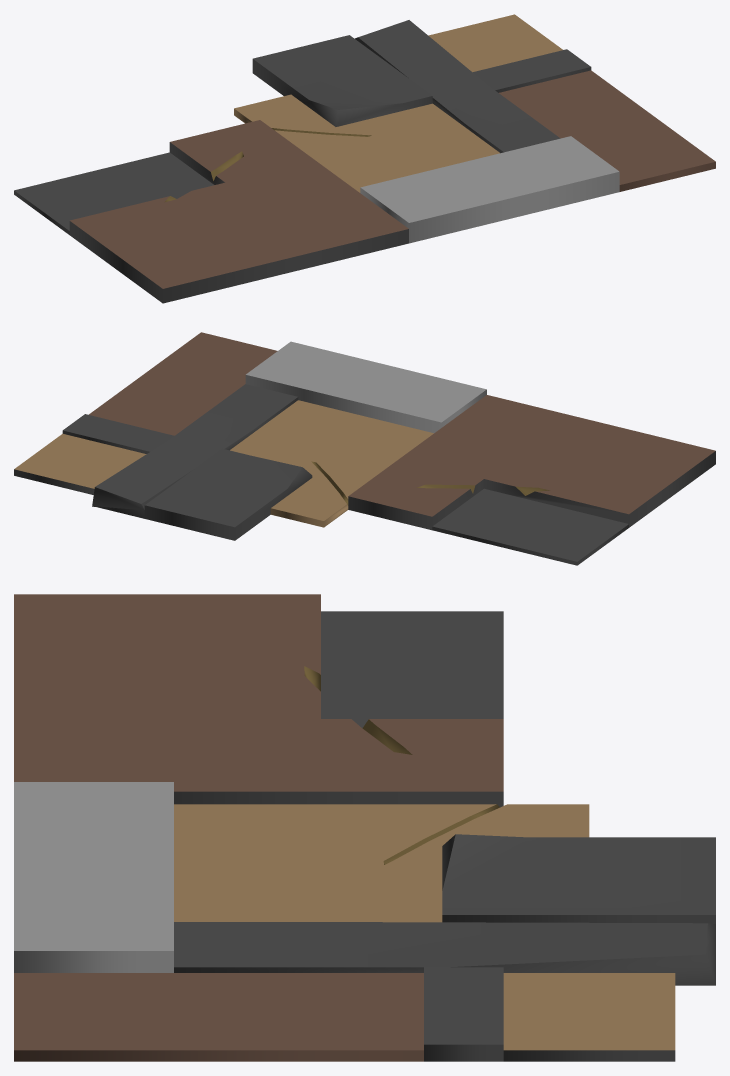
File: Fondo-B.obj
3 views of the same model, one above another, from view 1: azimuth 30°, elevation 25°; view 2: azimuth 150°, elevation 25°; view 3: azimuth 270°, elevation 25° (orthographic). The views are drawn at different scales.
Visible parts, largest first — view 1: Fondo-B_Plane.018; view 2: Fondo-B_Plane.018; view 3: Fondo-B_Plane.018.
Part boxes in pixels (box(x1,y1,x2,y2)): Fondo-B_Plane.018: box(14, 14, 715, 303); Fondo-B_Plane.018: box(14, 332, 715, 565); Fondo-B_Plane.018: box(14, 594, 715, 1061).
Bounding box in the file's own units: 2 × 0.0731 × 1.34.
